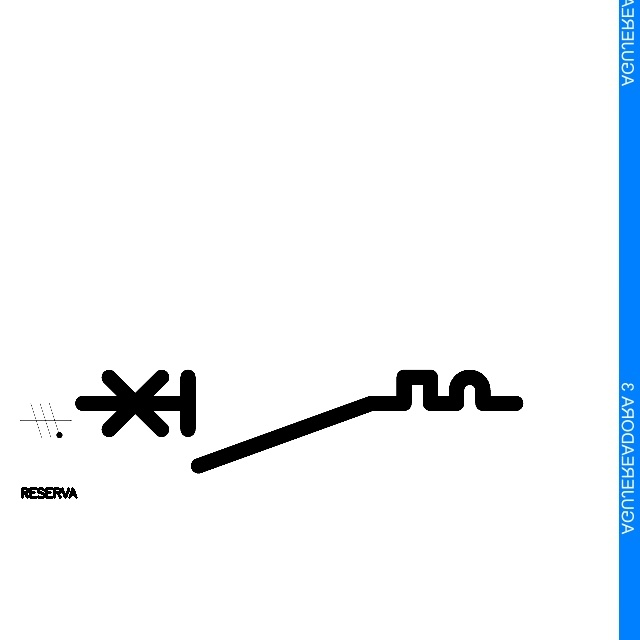interruptor_termomagnetico: (71, 366, 527, 477)
